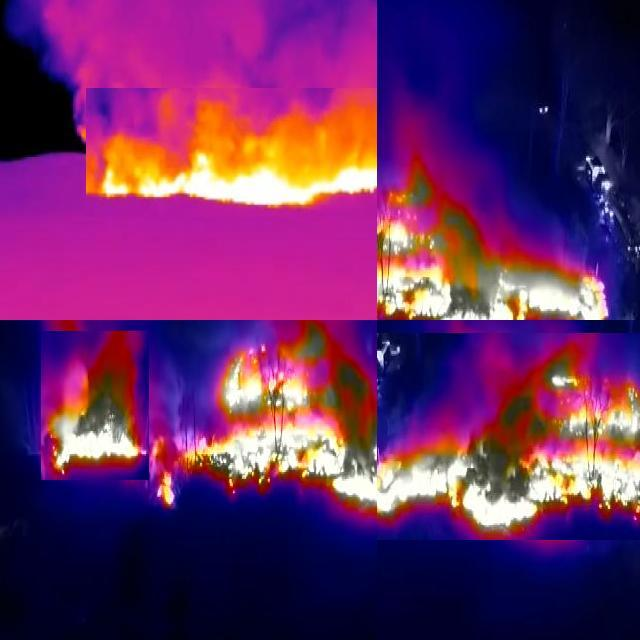fire: (378, 333, 640, 540), (86, 88, 378, 217), (195, 322, 378, 510), (378, 181, 610, 321), (41, 331, 149, 480), (150, 379, 196, 515)
